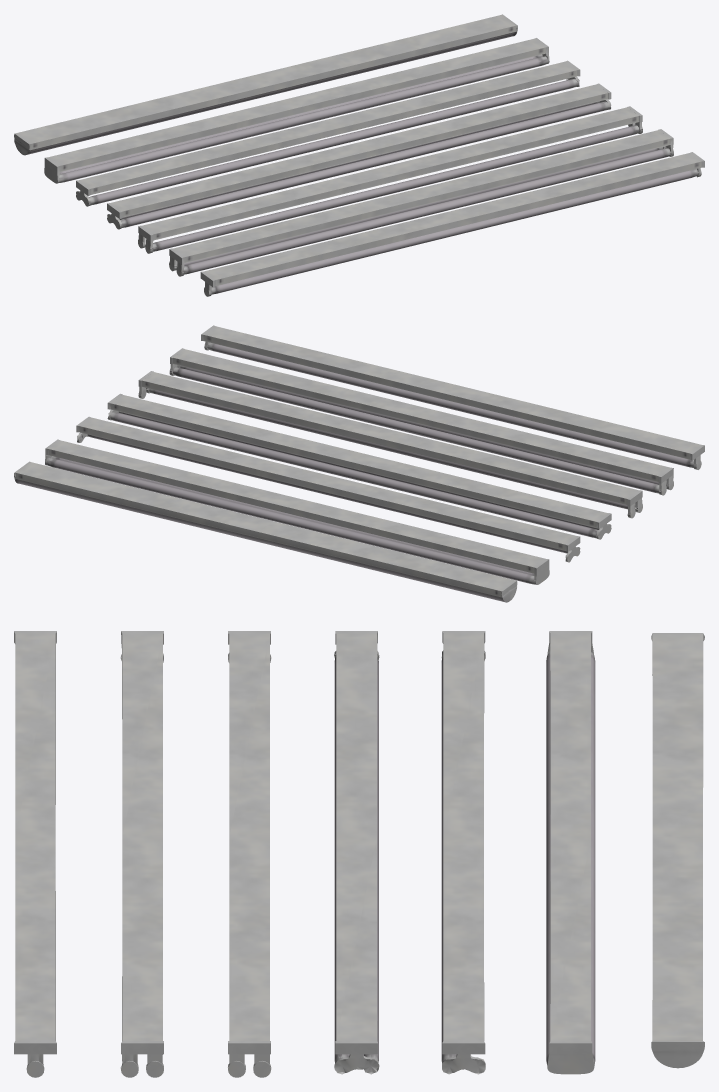
File: lamp_fluoro.glb
The picture shows the model from 3 angles, top to bottom: view 1: azimuth 30°, elevation 25°; view 2: azimuth 150°, elevation 25°; view 3: azimuth 270°, elevation 25°; orthographic projection. The views are drawn at different scales.
Parts seen in each view (by area): view 1: mesh; view 2: mesh; view 3: mesh.
Part boxes in pixels (x1=…): mesh: x1=14, y1=14, x2=704, y2=296; mesh: x1=14, y1=325, x2=704, y2=602; mesh: x1=14, y1=631, x2=704, y2=1077.
Size of the model in its own units: 0.9122 by 0.0353 by 0.6455.
1 material, 1 textured.
